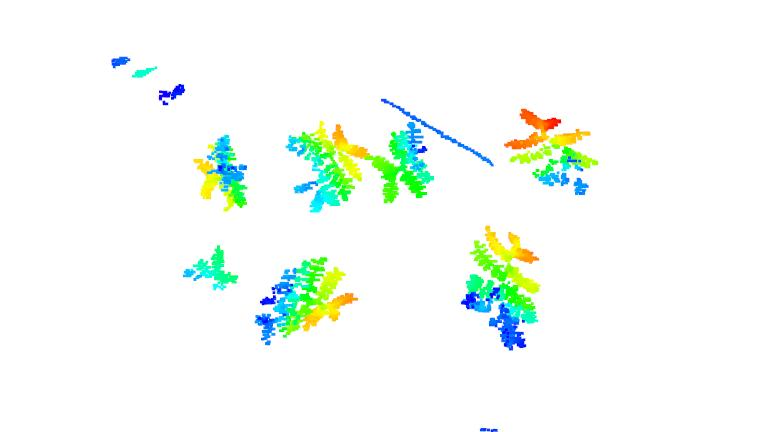chickpea: (462, 224, 543, 350), (255, 258, 356, 347), (502, 109, 600, 196), (283, 122, 368, 214), (370, 121, 436, 205), (191, 133, 251, 211), (179, 246, 240, 290)
